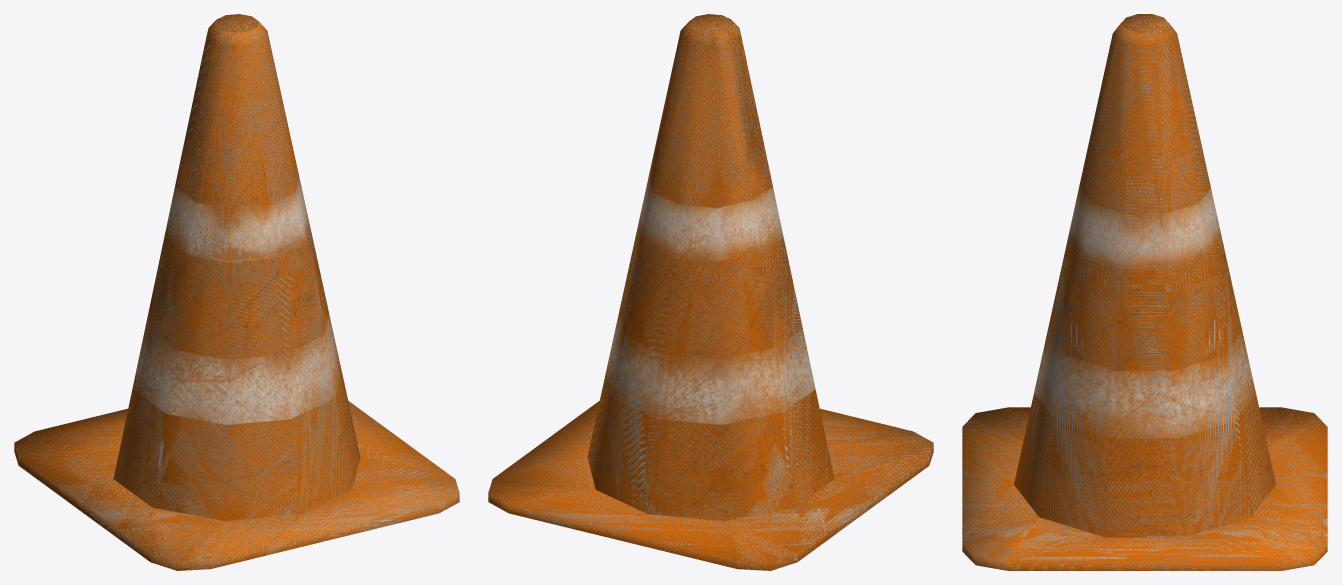
The picture shows the model from 3 angles, left to right: view 1: azimuth 30°, elevation 25°; view 2: azimuth 150°, elevation 25°; view 3: azimuth 270°, elevation 25°; orthographic projection. The views are drawn at different scales.
Parts seen in each view (by area): view 1: konus_road; view 2: konus_road; view 3: konus_road.
Boxes of the visible parts, x1,y1,x2,y2 form: konus_road: (14, 14, 459, 570); konus_road: (488, 14, 933, 570); konus_road: (962, 14, 1327, 570).
Size of the model in its own units: 15.7 by 15.7 by 22.32.
Materials: 2 (1 with a texture image).
